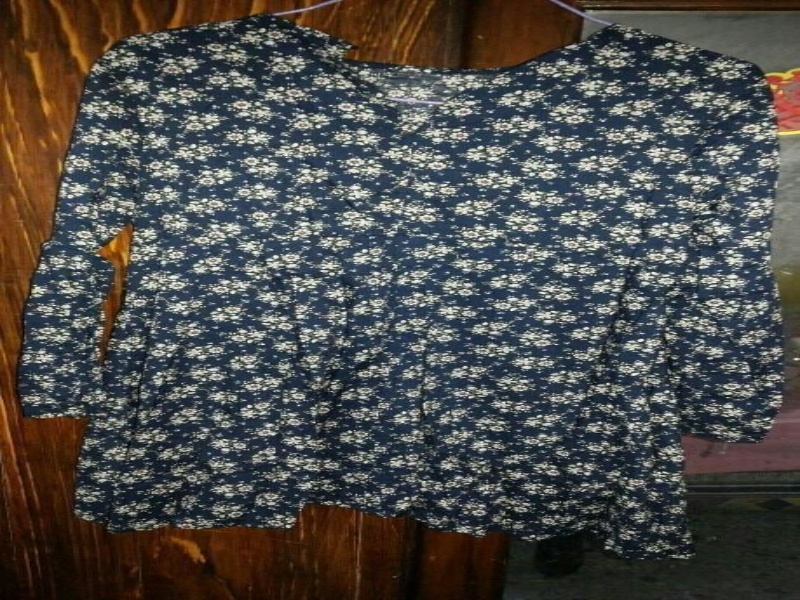long_sleeved_dress: (9, 12, 798, 567)
